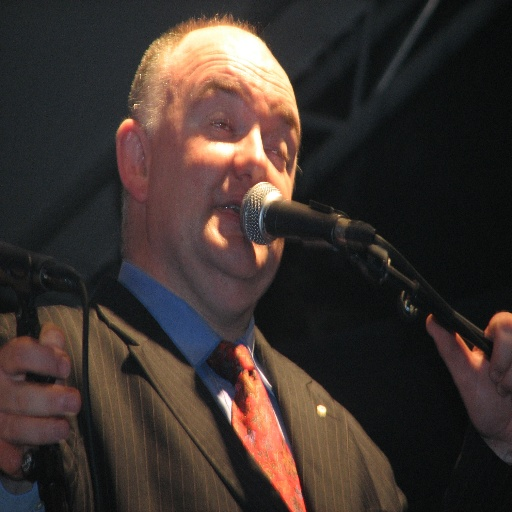hand: (421, 310, 511, 444), (4, 325, 85, 473)
